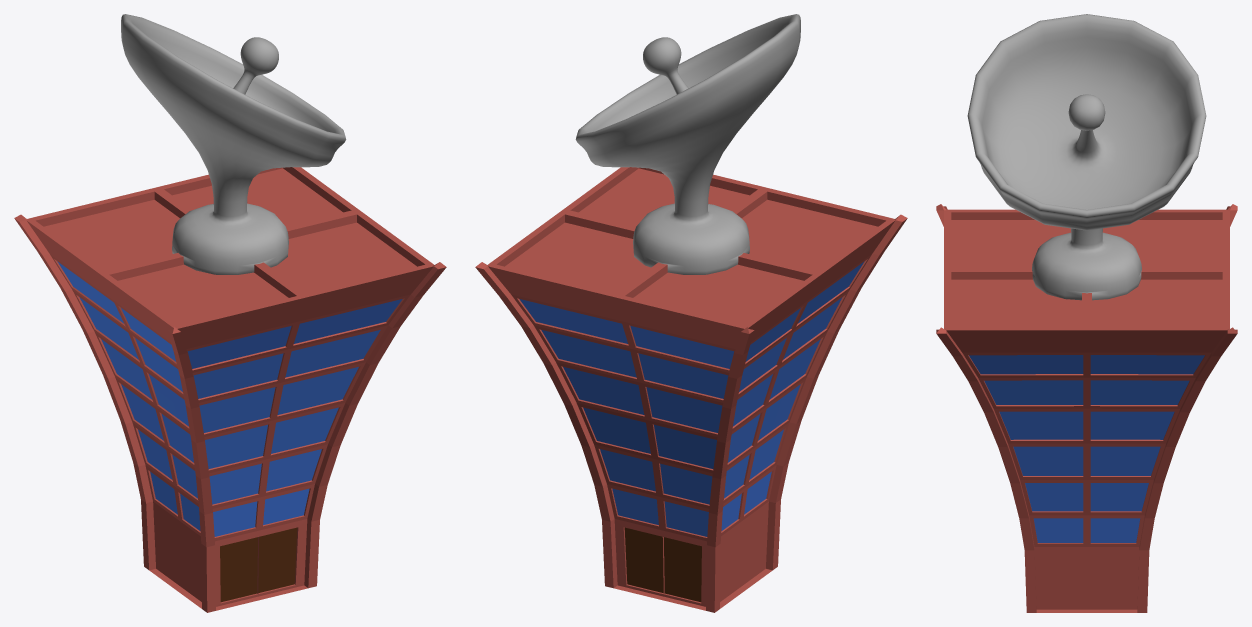
The model's file is bank.gltf.
3 renders of one model, left to right at view 1: azimuth 30°, elevation 25°; view 2: azimuth 150°, elevation 25°; view 3: azimuth 270°, elevation 25°, orthographic. The views are drawn at different scales.
Visible parts, largest first — view 1: Bank, Cube; view 2: Bank, Cube; view 3: Bank, Cube.
Boxes of the visible parts, x1,y1,x2,y2 form: Bank: (14,167,446,612); Cube: (121,14,346,274); Bank: (475,167,907,612); Cube: (575,14,800,274); Bank: (936,204,1237,612); Cube: (967,14,1206,300).
Size of the model in its own units: 5 by 9.77 by 5.
